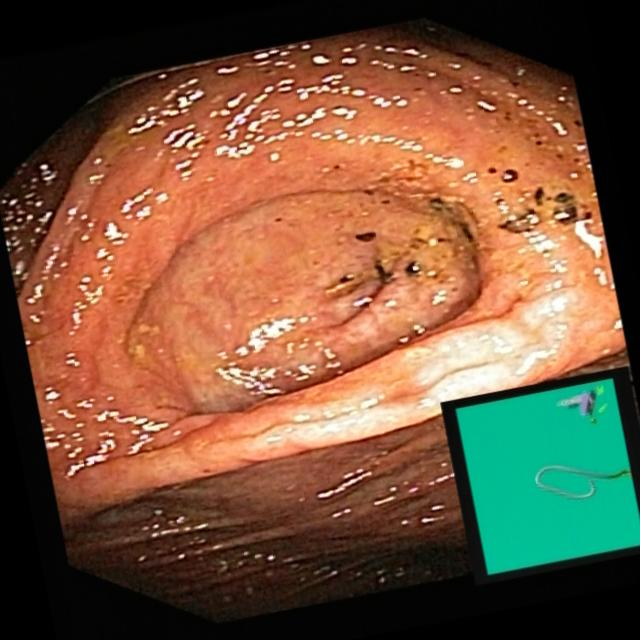normal-cecum: (336, 153, 605, 294)
